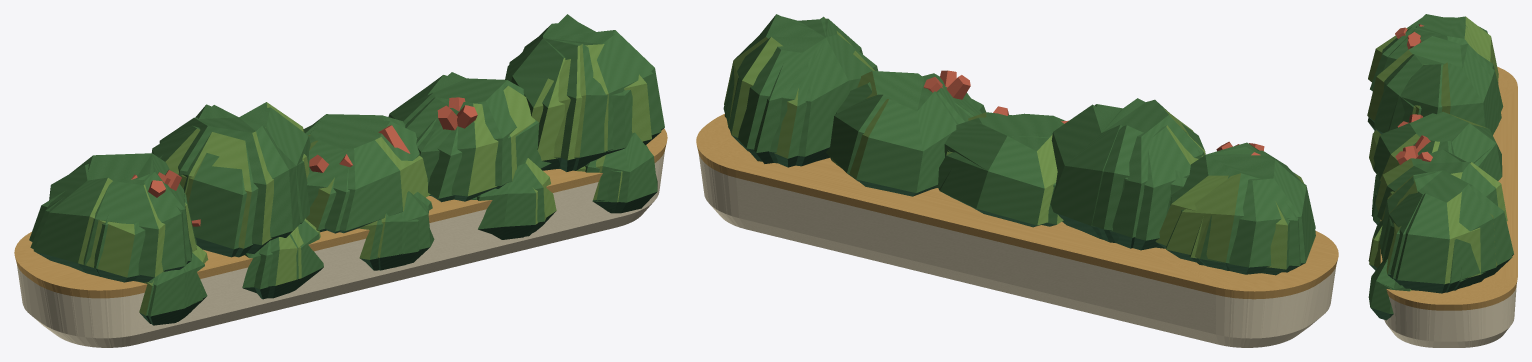
Rendered from TerraceBorder.fbx.
3 renders of one model, left to right at view 1: azimuth 30°, elevation 25°; view 2: azimuth 150°, elevation 25°; view 3: azimuth 270°, elevation 25°, orthographic. The views are drawn at different scales.
Visible parts, largest first — view 1: TerraceBorder Close, TerraceBorder Street, TerraceBorder Horizon; view 2: TerraceBorder Close, TerraceBorder Street, TerraceBorder Horizon; view 3: TerraceBorder Close, TerraceBorder Street, TerraceBorder Horizon.
Boxes of the visible parts, x1,y1,x2,y2 form: TerraceBorder Close: [14, 23, 667, 347]; TerraceBorder Street: [14, 14, 666, 347]; TerraceBorder Horizon: [19, 33, 666, 290]; TerraceBorder Close: [696, 14, 1338, 347]; TerraceBorder Street: [696, 16, 1338, 347]; TerraceBorder Horizon: [697, 18, 1334, 290]; TerraceBorder Close: [1367, 14, 1517, 347]; TerraceBorder Street: [1368, 16, 1517, 347]; TerraceBorder Horizon: [1367, 25, 1517, 304].
Bounding box in the file's own units: 770 × 210 × 200.
